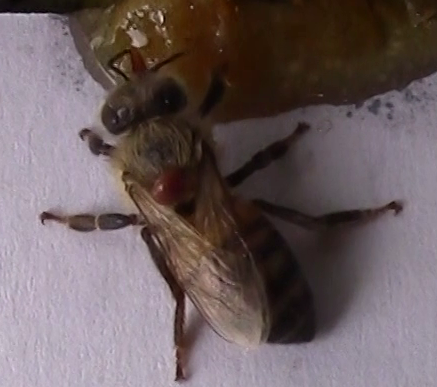Varroa destructor: (149, 164, 190, 206)
